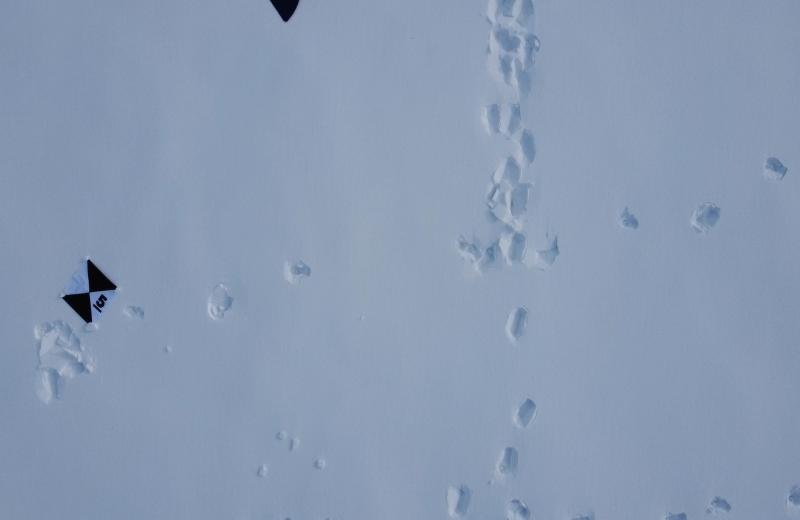Quarter Circle: (267, 0, 305, 24)
